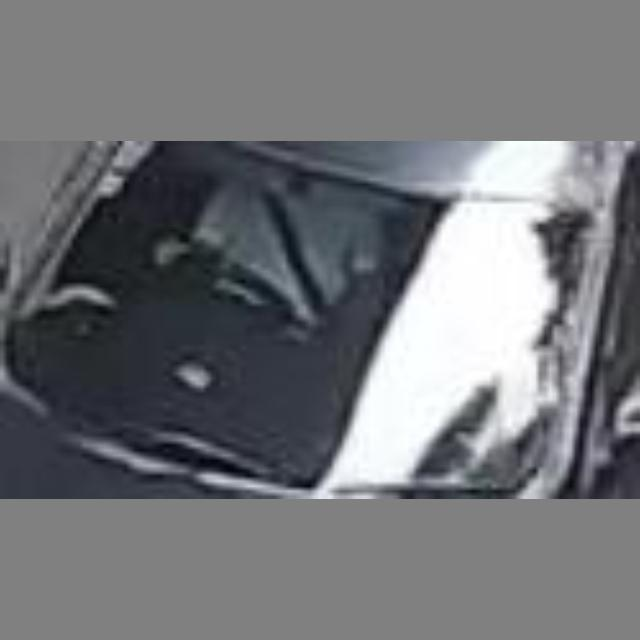pakai: (184, 182, 379, 341)
